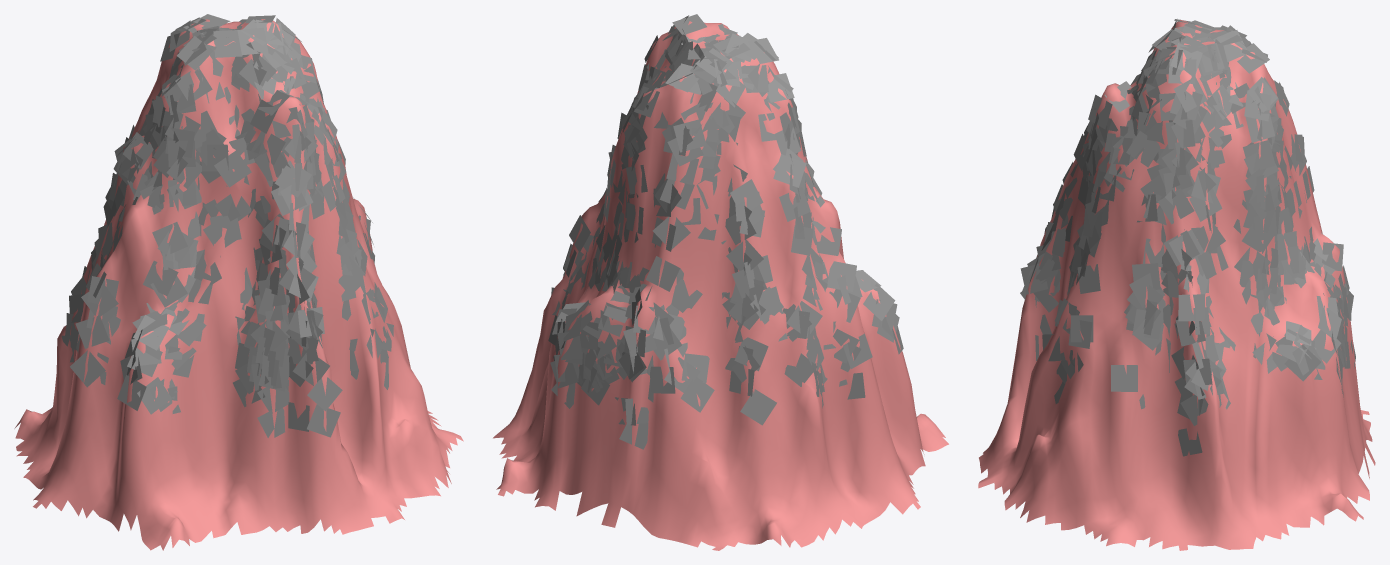
File: DigletMountain_02_SM.gltf
The picture shows the model from 3 angles, left to right: view 1: azimuth 30°, elevation 25°; view 2: azimuth 150°, elevation 25°; view 3: azimuth 270°, elevation 25°; orthographic projection.
Parts seen in each view (by area): view 1: DigletMountain_02_SM; view 2: DigletMountain_02_SM; view 3: DigletMountain_02_SM.
Boxes of the visible parts, left/top/right/bottom form: DigletMountain_02_SM: left=14, top=14, right=463, bottom=550; DigletMountain_02_SM: left=493, top=14, right=948, bottom=550; DigletMountain_02_SM: left=978, top=19, right=1375, bottom=550.
Bounding box in the file's own units: 2.26 × 2.38 × 1.99.
